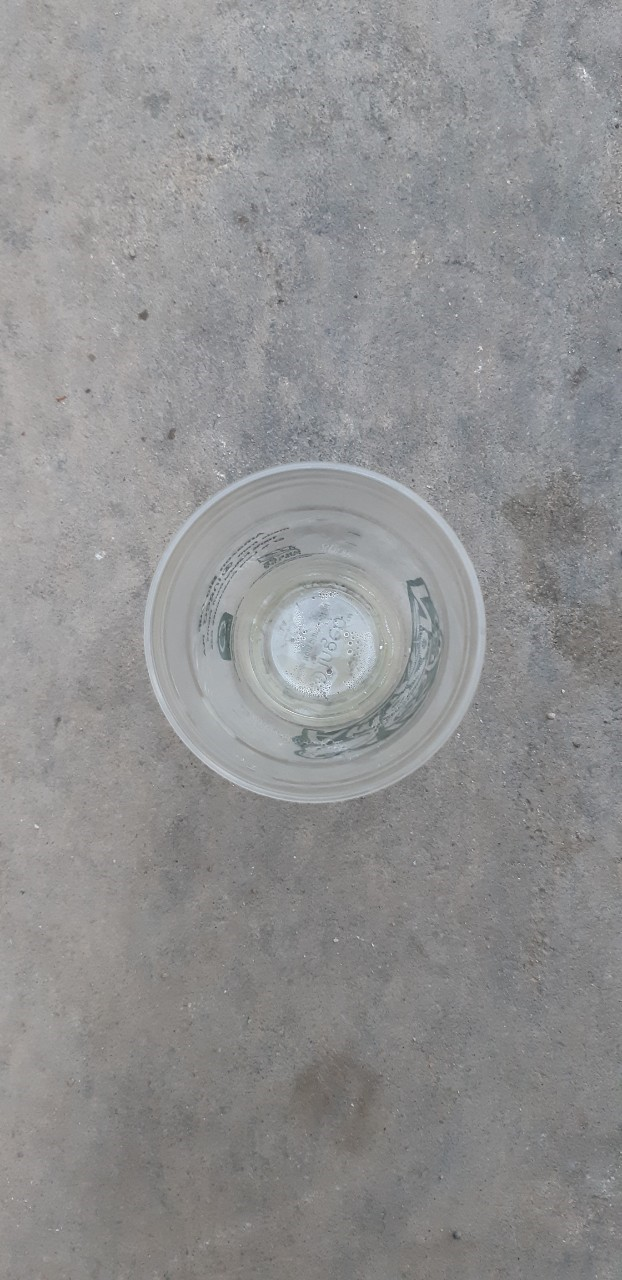PlasticCup: (149, 459, 498, 810)
